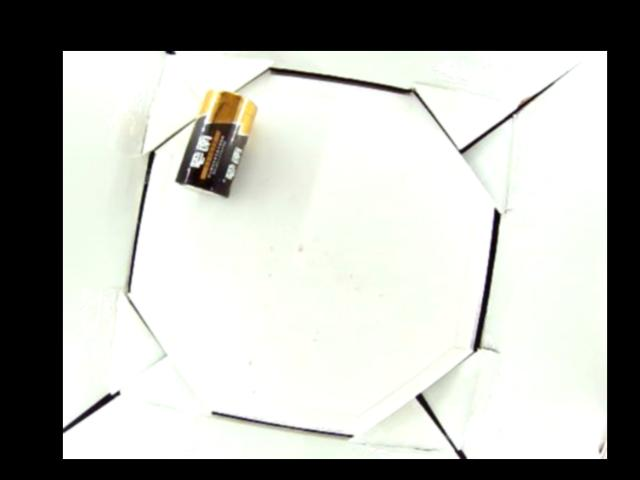Battery: (175, 86, 256, 198)
